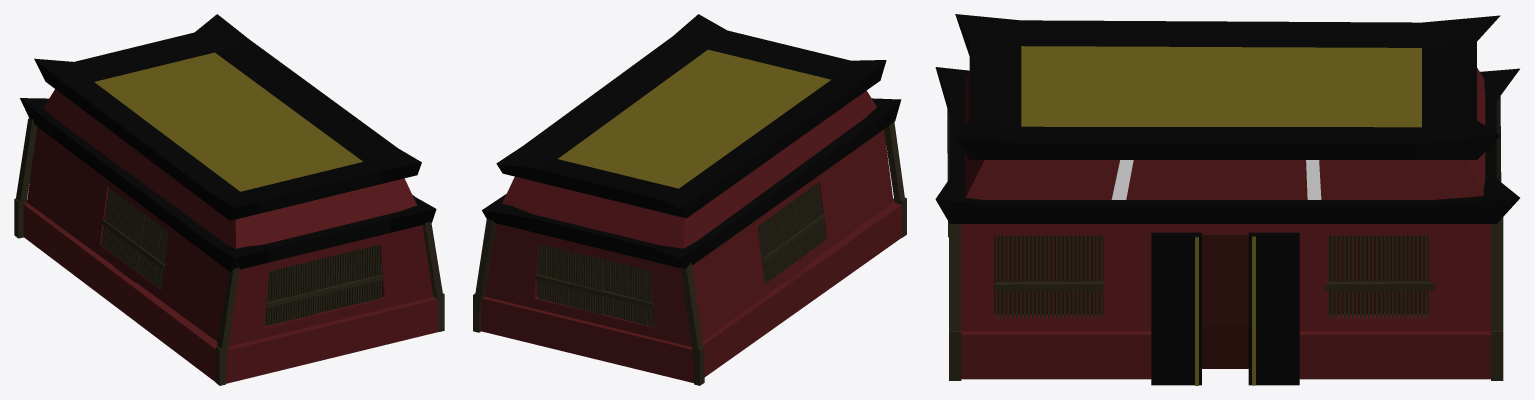
Rendered from shrine.fbx.
The picture shows the model from 3 angles, left to right: view 1: azimuth 30°, elevation 25°; view 2: azimuth 150°, elevation 25°; view 3: azimuth 270°, elevation 25°; orthographic projection. The views are drawn at different scales.
Parts seen in each view (by area): view 1: Cube; view 2: Cube; view 3: Cube.
Part boxes in pixels (bbox=[...]): Cube: bbox=[14, 14, 444, 385]; Cube: bbox=[473, 14, 906, 385]; Cube: bbox=[935, 14, 1519, 385].
Bounding box in the file's own units: 3344 × 2360 × 5413.
